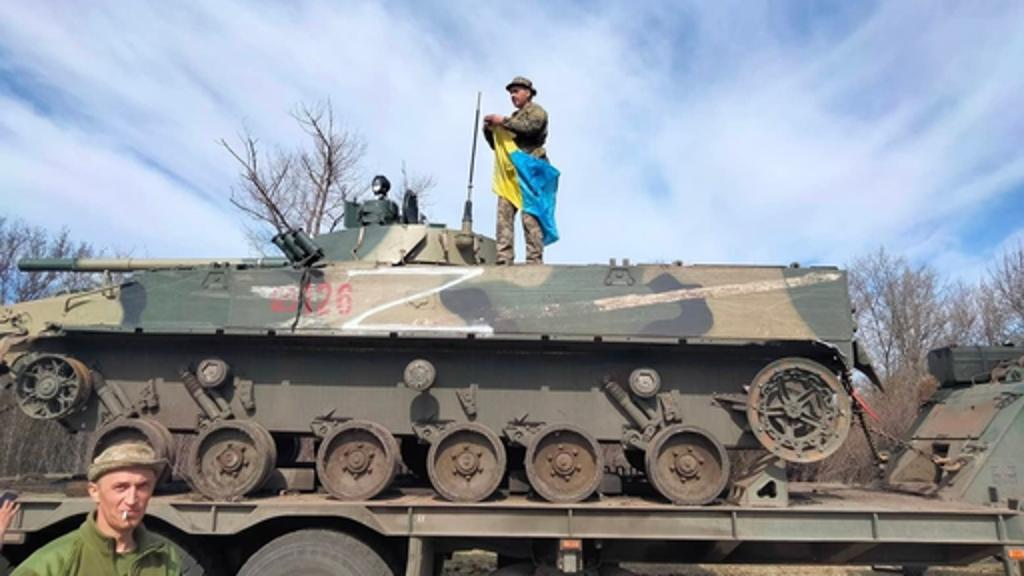APC-IFV: (0, 190, 852, 516)
